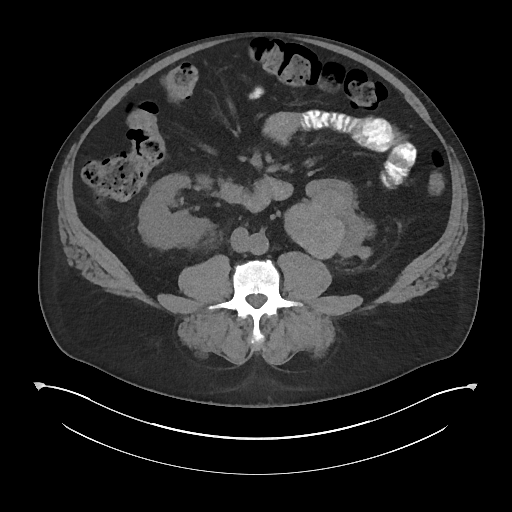Lesion: (283, 199, 345, 260)
